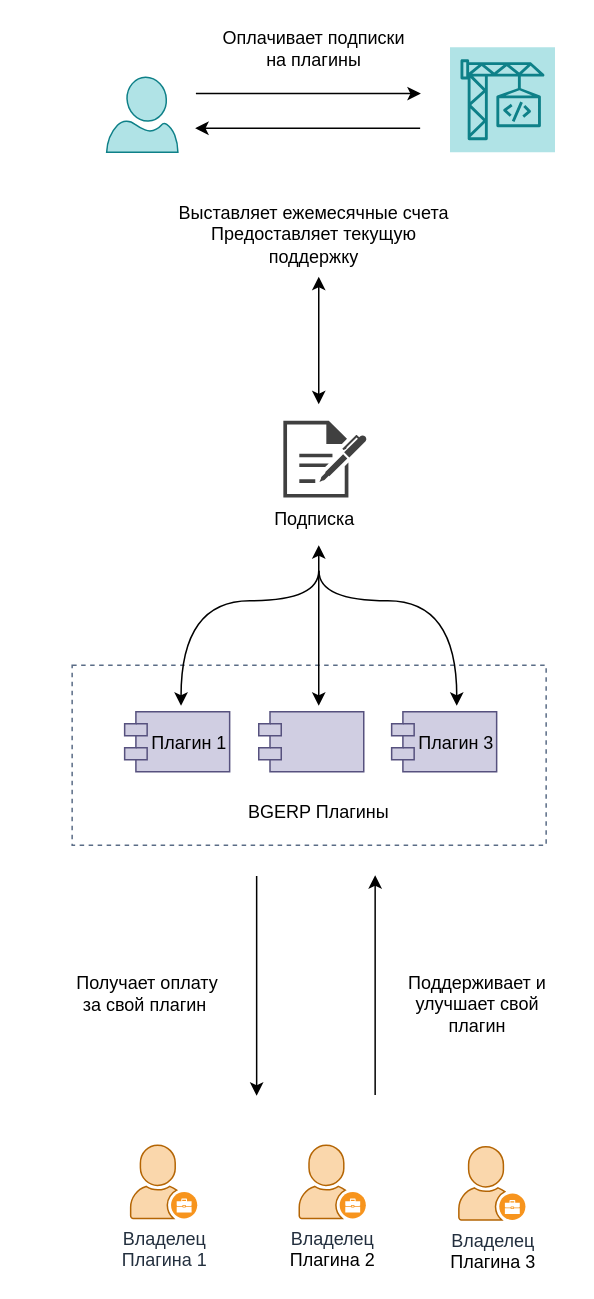
Some shapes in this 594 by 1299 pixel diagram are drawn without their labels. Here are the shapes that lost their labels. From the top down, the centre of each, then its label:
(x=141, y=114): Клиент
(x=501, y=99): Консультант
(x=310, y=741): Плагин 2
